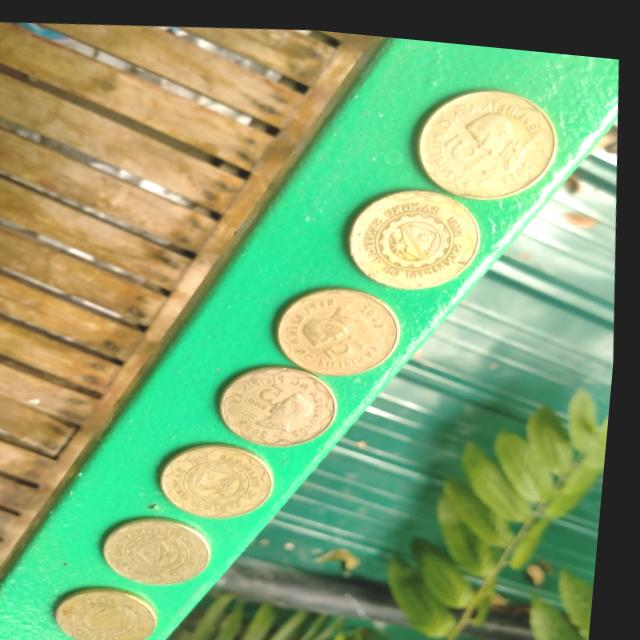5_Old_Back: (363, 185, 478, 278), (185, 444, 276, 515), (125, 514, 214, 582), (72, 583, 165, 640)
5_Old_Front: (423, 76, 546, 193), (282, 290, 400, 372), (235, 367, 330, 436)
